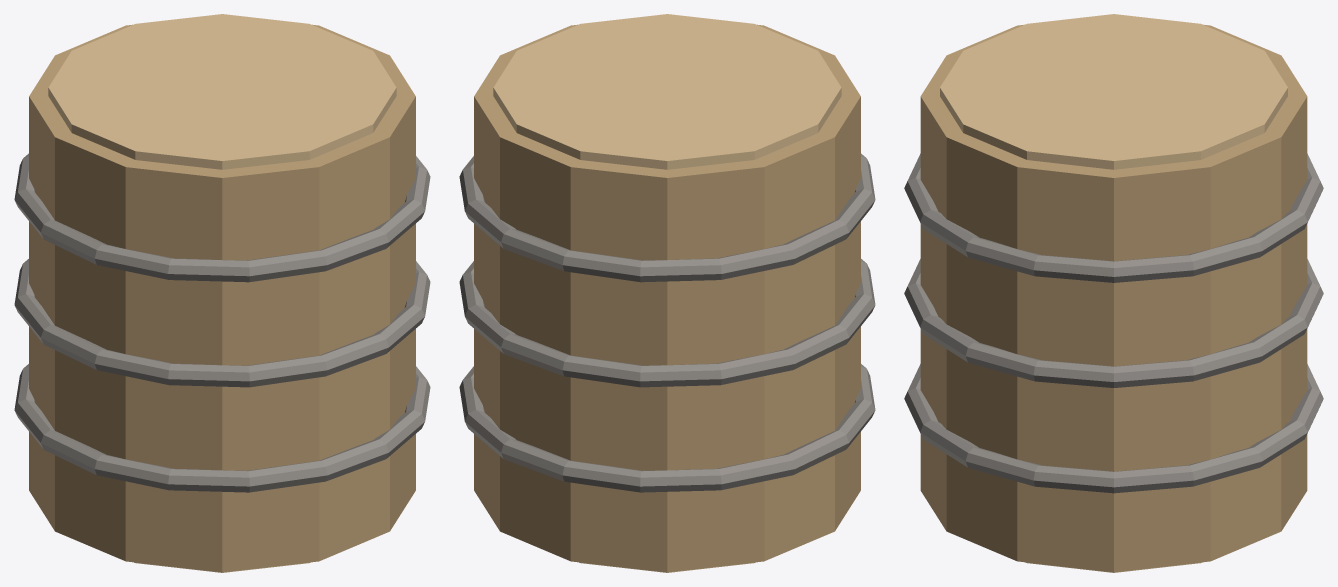
File: Barrel_1.glb
The picture shows the model from 3 angles, left to right: view 1: azimuth 30°, elevation 25°; view 2: azimuth 150°, elevation 25°; view 3: azimuth 270°, elevation 25°; orthographic projection.
Parts seen in each view (by area): view 1: Barrel_1; view 2: Barrel_1; view 3: Barrel_1.
Part boxes in pixels (left/top/right/bottom): Barrel_1: left=14, top=14, right=430, bottom=572; Barrel_1: left=459, top=14, right=875, bottom=572; Barrel_1: left=904, top=14, right=1323, bottom=572.
Size of the model in its own units: 0.434 by 0.47 by 0.434.
